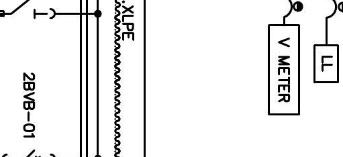LL: (312, 44, 340, 84)
v_m_digital: (267, 23, 301, 116)
